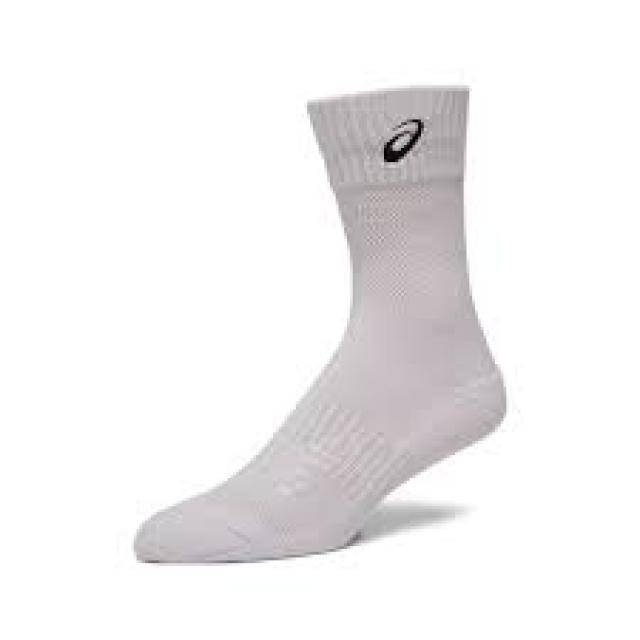sock: (131, 83, 506, 563)
